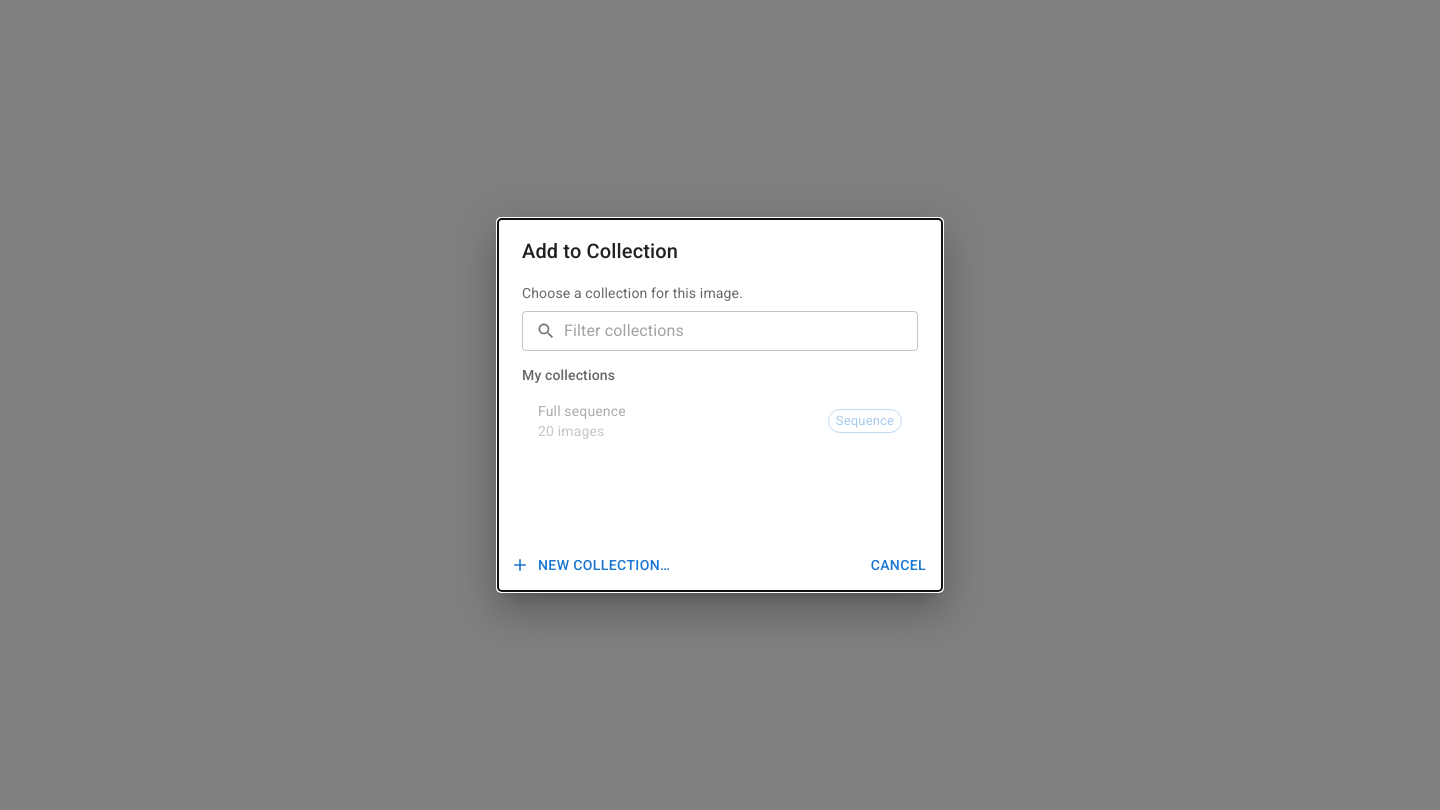
AddToCollectionDialog › disables a student sequence row at twenty images and explains the cap
Hover over the element showing "Full sequence 20 images Sequence" at (582, 411), box [522, 391, 918, 451]
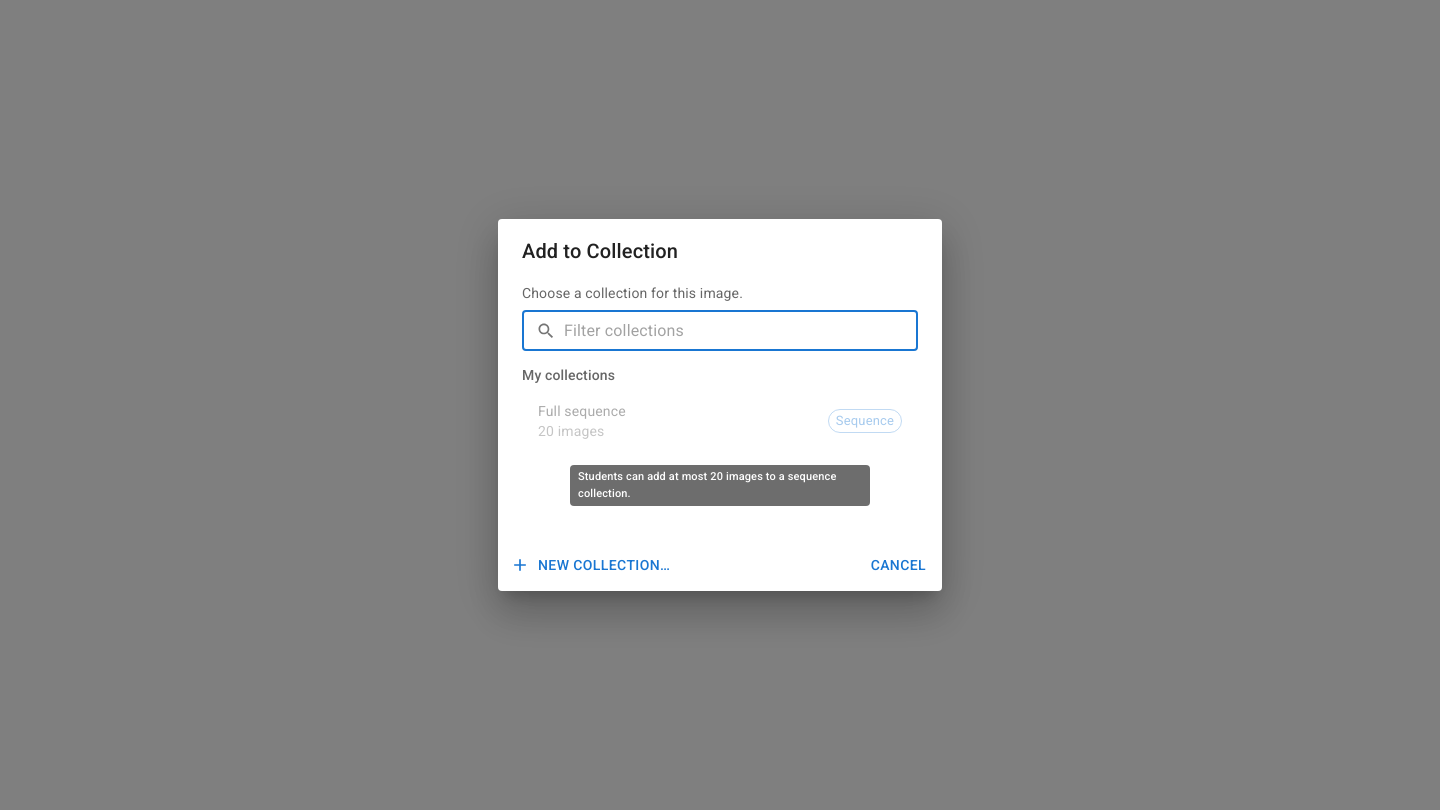
Now the tooltip reads "Students can add at most 20 images to a sequence collection.", box [578, 470, 836, 500]
